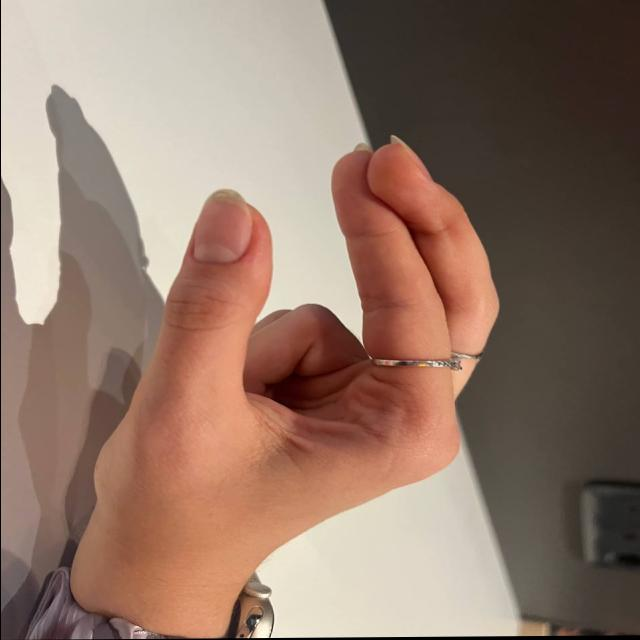ia: (93, 133, 520, 541)
